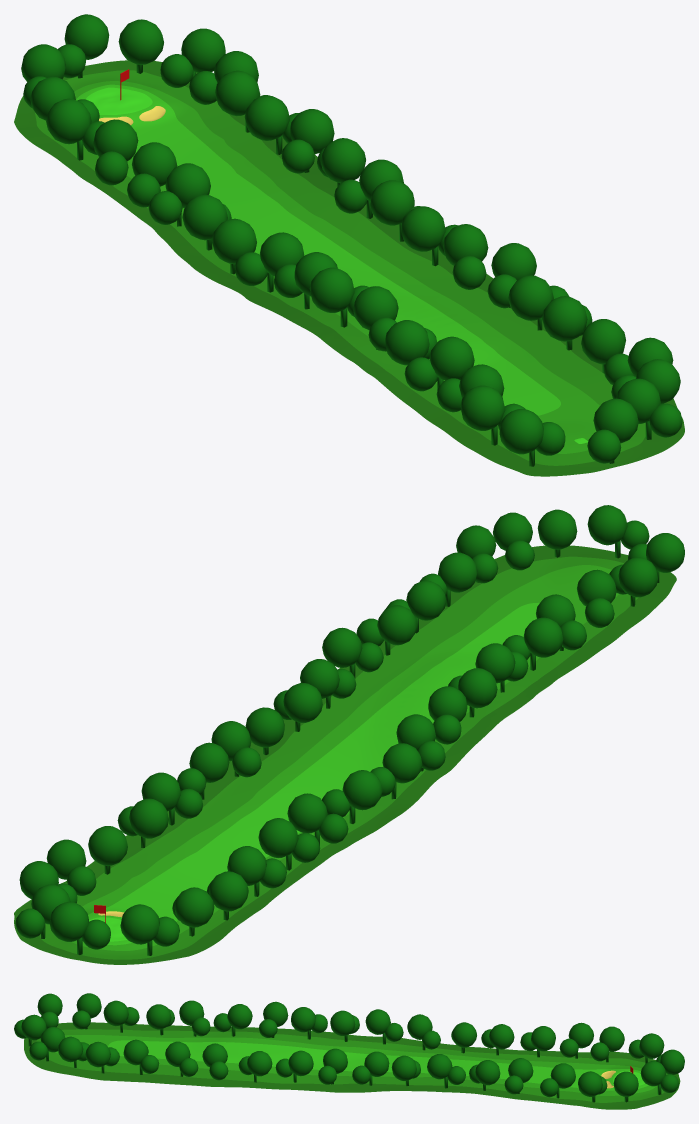
The model's file is long.glb.
3 renders of one model, top to bottom at view 1: azimuth 30°, elevation 25°; view 2: azimuth 150°, elevation 25°; view 3: azimuth 270°, elevation 25°, orthographic. The views are drawn at different scales.
Visible parts, largest first — view 1: heavy-rough, OB, fairway, rough, Sphere.031, Sphere.018, Sphere.034, Sphere.032, Sphere.003, Sphere.023, Sphere.026, Sphere.028 (+31 smaller); view 2: heavy-rough, OB, fairway, rough, Sphere.036, Sphere.027, Sphere.026, Sphere.009, Sphere.032, Sphere.037, Sphere.025, Sphere.010 (+30 smaller); view 3: OB, heavy-rough, rough, fairway, Sphere.004, Sphere.035, Sphere.024, Sphere.006, Sphere.020, Sphere.001, Sphere.012, Sphere.008 (+30 smaller).
Part boxes in pixels (left/top/right/bottom): heavy-rough: left=35, top=70, right=645, bottom=465; OB: left=14, top=60, right=684, bottom=476; fairway: left=78, top=86, right=558, bottom=414; rough: left=74, top=81, right=599, bottom=453; Sphere.031: left=499, top=409, right=565, bottom=466; Sphere.018: left=404, top=336, right=474, bottom=391; Sphere.034: left=160, top=28, right=225, bottom=87; Sphere.032: left=587, top=398, right=638, bottom=463; Sphere.003: left=281, top=109, right=334, bottom=173; Sphere.023: left=235, top=232, right=304, bottom=292; Sphere.026: left=148, top=163, right=210, bottom=226; Sphere.028: left=93, top=119, right=138, bottom=185; heavy-rough: left=40, top=556, right=638, bottom=959; OB: left=14, top=545, right=676, bottom=964; fairway: left=88, top=604, right=538, bottom=943; rough: left=72, top=565, right=618, bottom=950; Sphere.036: left=49, top=902, right=110, bottom=954; Sphere.027: left=258, top=818, right=320, bottom=870; Sphere.026: left=287, top=793, right=348, bottom=845; Sphere.009: left=322, top=627, right=383, bottom=678; Sphere.032: left=587, top=505, right=649, bottom=558; Sphere.037: left=120, top=904, right=179, bottom=955; Sphere.025: left=322, top=770, right=382, bottom=823; Sphere.010: left=356, top=605, right=417, bottom=655; OB: left=24, top=1022, right=680, bottom=1109; heavy-rough: left=36, top=1029, right=667, bottom=1102; rough: left=55, top=1035, right=655, bottom=1095; fairway: left=109, top=1041, right=647, bottom=1089; Sphere.004: left=427, top=1054, right=465, bottom=1088; Sphere.035: left=640, top=1061, right=678, bottom=1094; Sphere.024: left=365, top=1009, right=403, bottom=1044; Sphere.006: left=352, top=1051, right=389, bottom=1085; Sphere.020: left=213, top=1004, right=252, bottom=1036; Sphere.001: left=540, top=1063, right=575, bottom=1098; Sphere.012: left=123, top=1039, right=159, bottom=1074; Sphere.008: left=275, top=1050, right=313, bottom=1082.
Size of the model in its own units: 0.729 by 0.2999 by 3.14.
